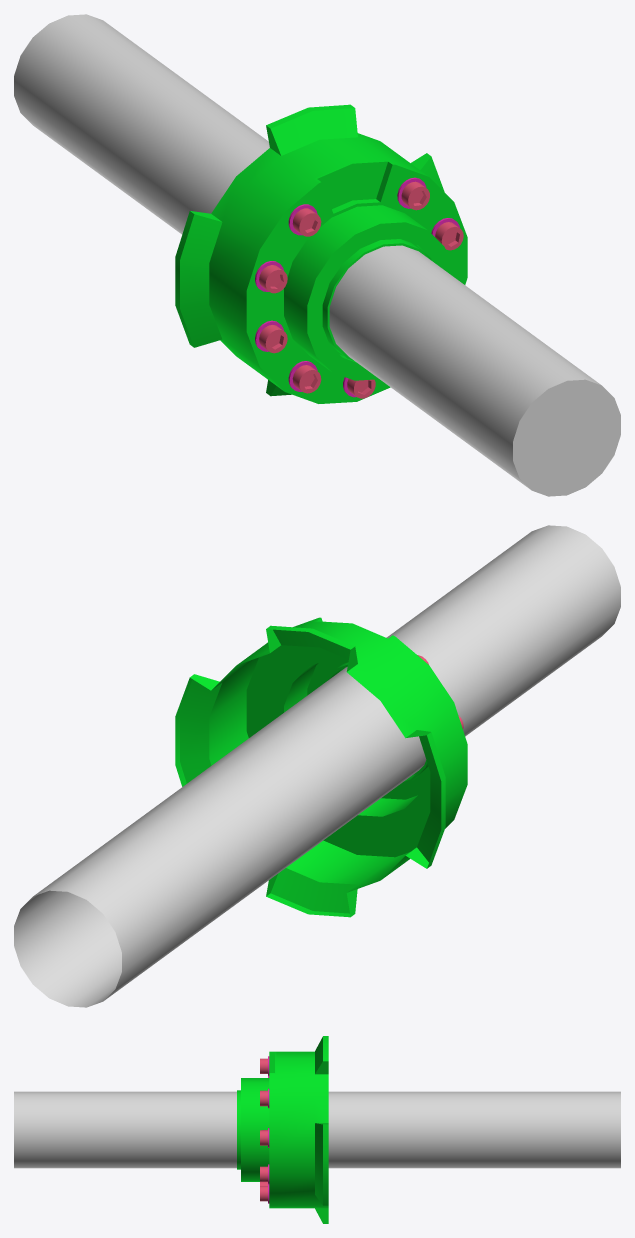
The model's file is Hydracilwall.fbx.
3 views of the same model, one above another, from view 1: azimuth 30°, elevation 25°; view 2: azimuth 150°, elevation 25°; view 3: azimuth 270°, elevation 25° (orthographic). The views are drawn at different scales.
Visible parts, largest first — view 1: Cylinder.008, Cylinder.009; view 2: Cylinder.008, Cylinder.009; view 3: Cylinder.008, Cylinder.009.
Part boxes in pixels (<box>): Cylinder.008: <box>14,14,620,496</box>; Cylinder.009: <box>175,104,467,403</box>; Cylinder.008: <box>14,525,620,1007</box>; Cylinder.009: <box>175,617,467,917</box>; Cylinder.008: <box>14,1091,620,1168</box>; Cylinder.009: <box>237,1036,328,1223</box>.
Size of the model in its own units: 8.89 by 9.03 by 28.92.
